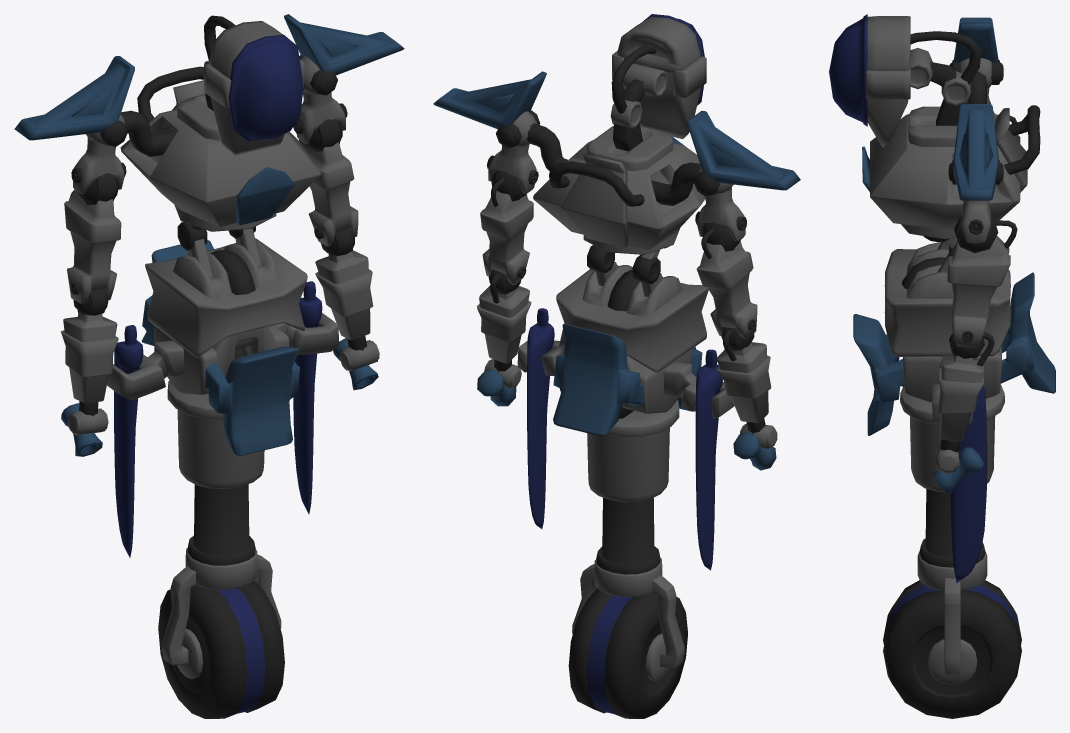
The model's file is RoboDeEsgrimaMaterial.fbx.
The picture shows the model from 3 angles, left to right: view 1: azimuth 30°, elevation 25°; view 2: azimuth 150°, elevation 25°; view 3: azimuth 270°, elevation 25°; orthographic projection. The views are drawn at different scales.
Parts seen in each view (by area): view 1: base do peito, Pineu, mascara de esgrima, Proteção da caixa de movimentação, Proteção da caixa de movimentação atrás, proteção para ombro, braço, Antebraço, Facão, pistão de entrada, pistão de saida, bainha (+18 smaller); view 2: Pineu, base do peito, Facão, Proteção da caixa de movimentação atrás, proteção para ombro, braço, Proteção da caixa de movimentação, mascara de esgrima, pistão de entrada, Antebraço, pistão de saida, base do braço (+22 smaller); view 3: Pineu, base do peito, mascara de esgrima, Proteção da caixa de movimentação atrás, Proteção da caixa de movimentação, proteção para ombro, braço, Facão, pistão de entrada, Antebraço, pistão de saida, caixa principal da movimentação (+20 smaller).
Part boxes in pixels (x1=…): base do peito: x1=120, y1=80, x2=321, y2=226; Pineu: x1=158, y1=580, x2=284, y2=718; mascara de esgrima: x1=204, y1=21, x2=304, y2=155; Proteção da caixa de movimentação: x1=145, y1=238, x2=307, y2=357; Proteção da caixa de movimentação atrás: x1=141, y1=240, x2=299, y2=455; proteção para ombro: x1=14, y1=14, x2=404, y2=140; braço: x1=64, y1=139, x2=358, y2=303; Antebraço: x1=61, y1=250, x2=373, y2=403; Facão: x1=114, y1=281, x2=322, y2=557; pistão de entrada: x1=167, y1=380, x2=264, y2=488; pistão de saida: x1=187, y1=484, x2=255, y2=565; bainha: x1=107, y1=313, x2=339, y2=399; Pineu: x1=568, y1=588, x2=687, y2=718; base do peito: x1=533, y1=136, x2=705, y2=249; Facão: x1=527, y1=308, x2=722, y2=570; Proteção da caixa de movimentação atrás: x1=553, y1=324, x2=702, y2=435; proteção para ombro: x1=433, y1=71, x2=800, y2=190; braço: x1=480, y1=191, x2=757, y2=338; Proteção da caixa de movimentação: x1=556, y1=265, x2=708, y2=372; mascara de esgrima: x1=612, y1=14, x2=706, y2=139; pistão de entrada: x1=587, y1=400, x2=679, y2=502; Antebraço: x1=477, y1=285, x2=771, y2=423; pistão de saida: x1=596, y1=497, x2=660, y2=574; base do braço: x1=488, y1=144, x2=745, y2=241; Pineu: x1=883, y1=580, x2=1021, y2=718; base do peito: x1=862, y1=108, x2=1027, y2=228; mascara de esgrima: x1=829, y1=14, x2=910, y2=147; Proteção da caixa de movimentação atrás: x1=853, y1=272, x2=1055, y2=435; Proteção da caixa de movimentação: x1=884, y1=249, x2=1010, y2=356; proteção para ombro: x1=953, y1=17, x2=998, y2=200; braço: x1=947, y1=236, x2=1010, y2=348; Facão: x1=950, y1=355, x2=987, y2=583; pistão de entrada: x1=900, y1=385, x2=1004, y2=492; Antebraço: x1=938, y1=354, x2=983, y2=441; pistão de saida: x1=919, y1=489, x2=985, y2=567; caixa principal da movimentação: x1=903, y1=346, x2=1001, y2=402.
Bounding box in the file's own units: 89.37 × 160 × 47.94.
